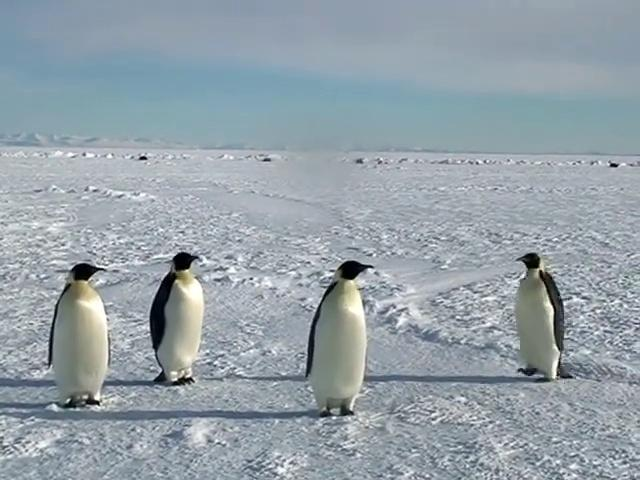animal: (306, 261, 372, 416)
